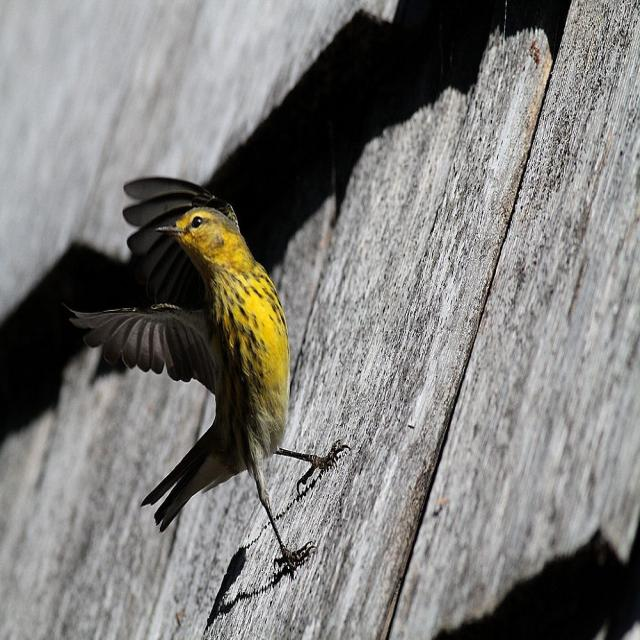bird: (67, 169, 344, 580)
